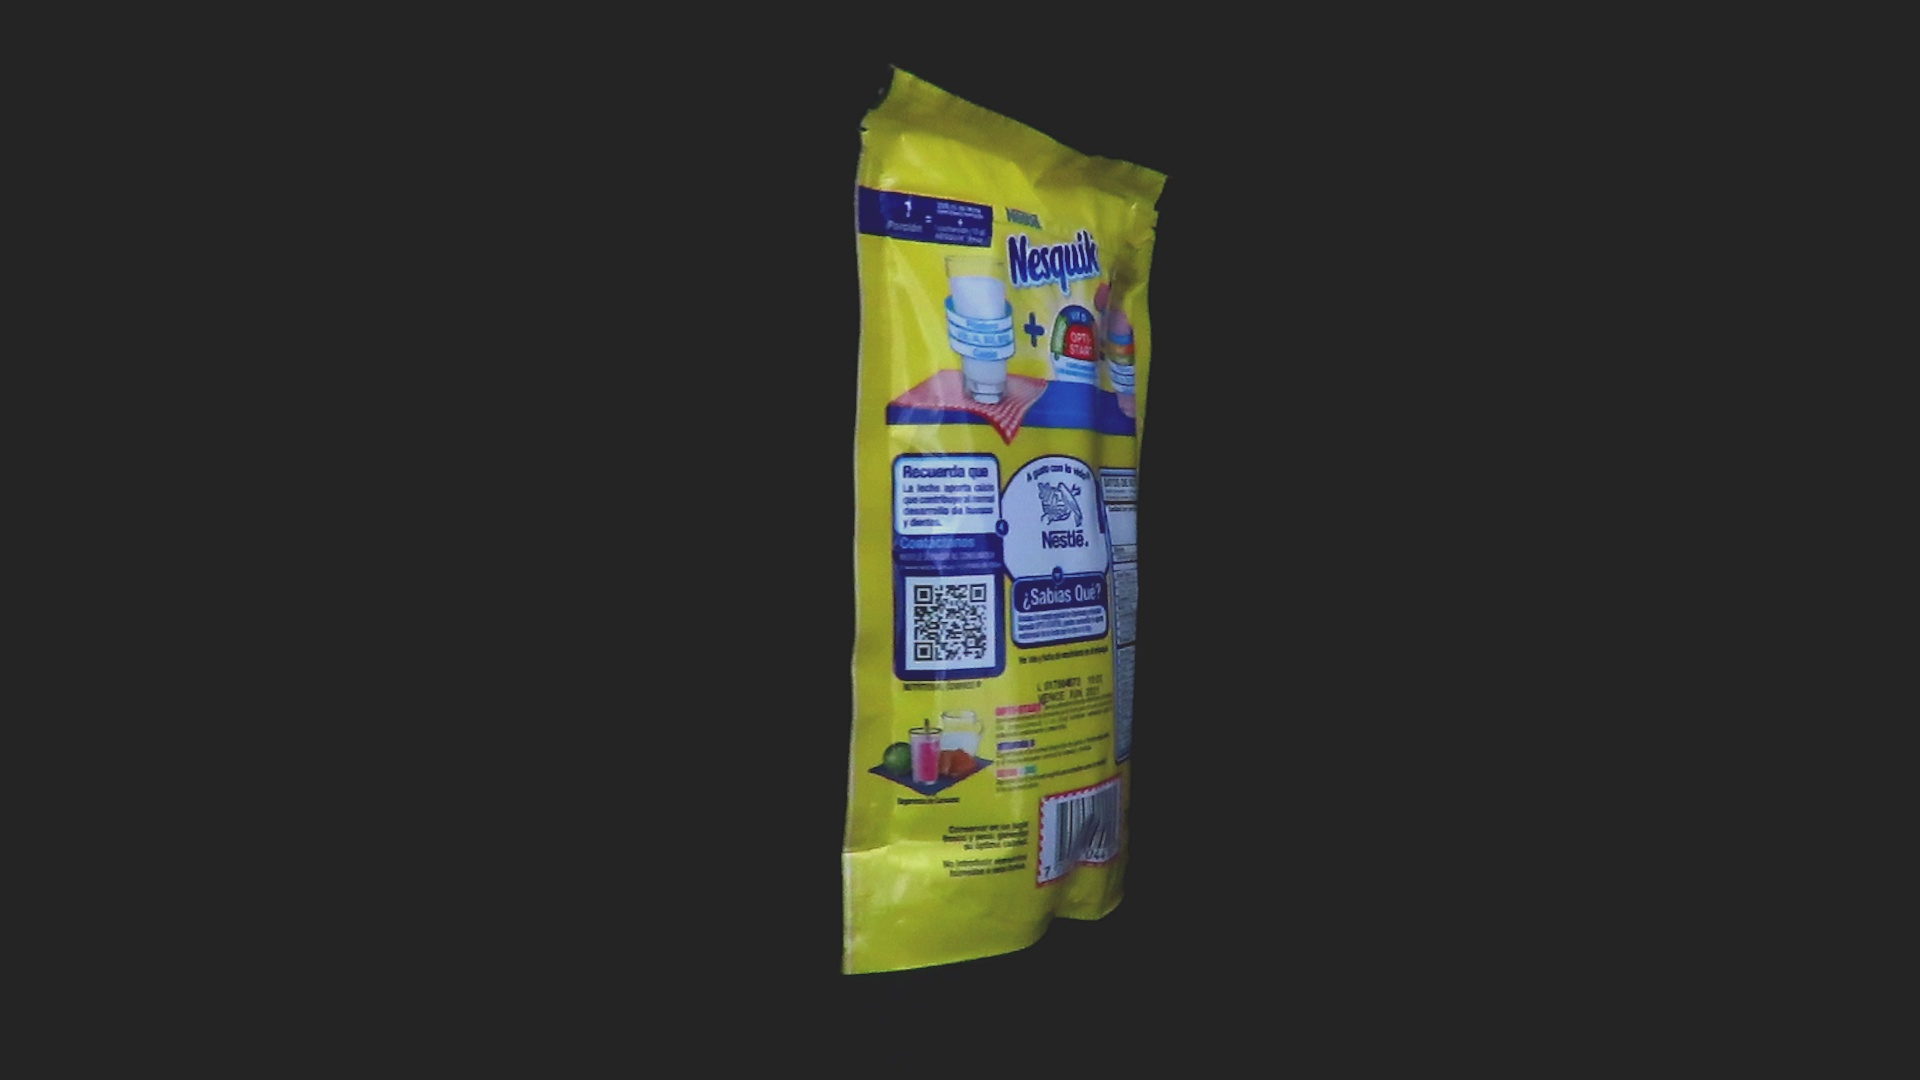COL0170305DYP20000: (836, 59, 1174, 981)
